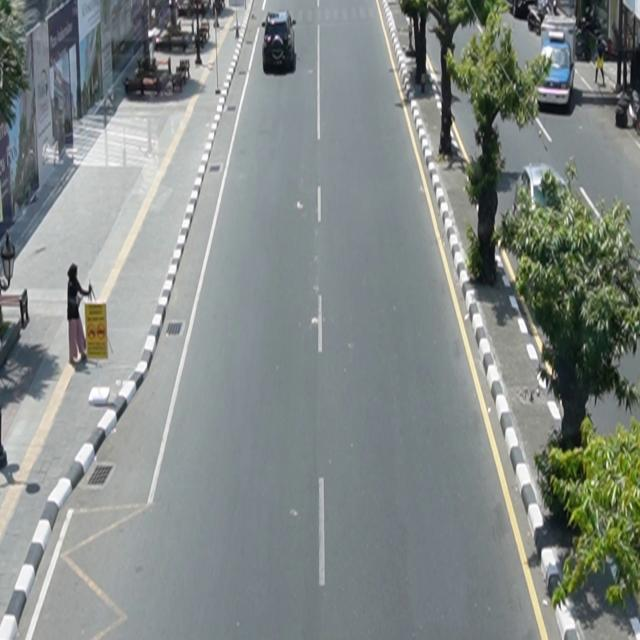car: (536, 31, 577, 108), (263, 11, 297, 74)
